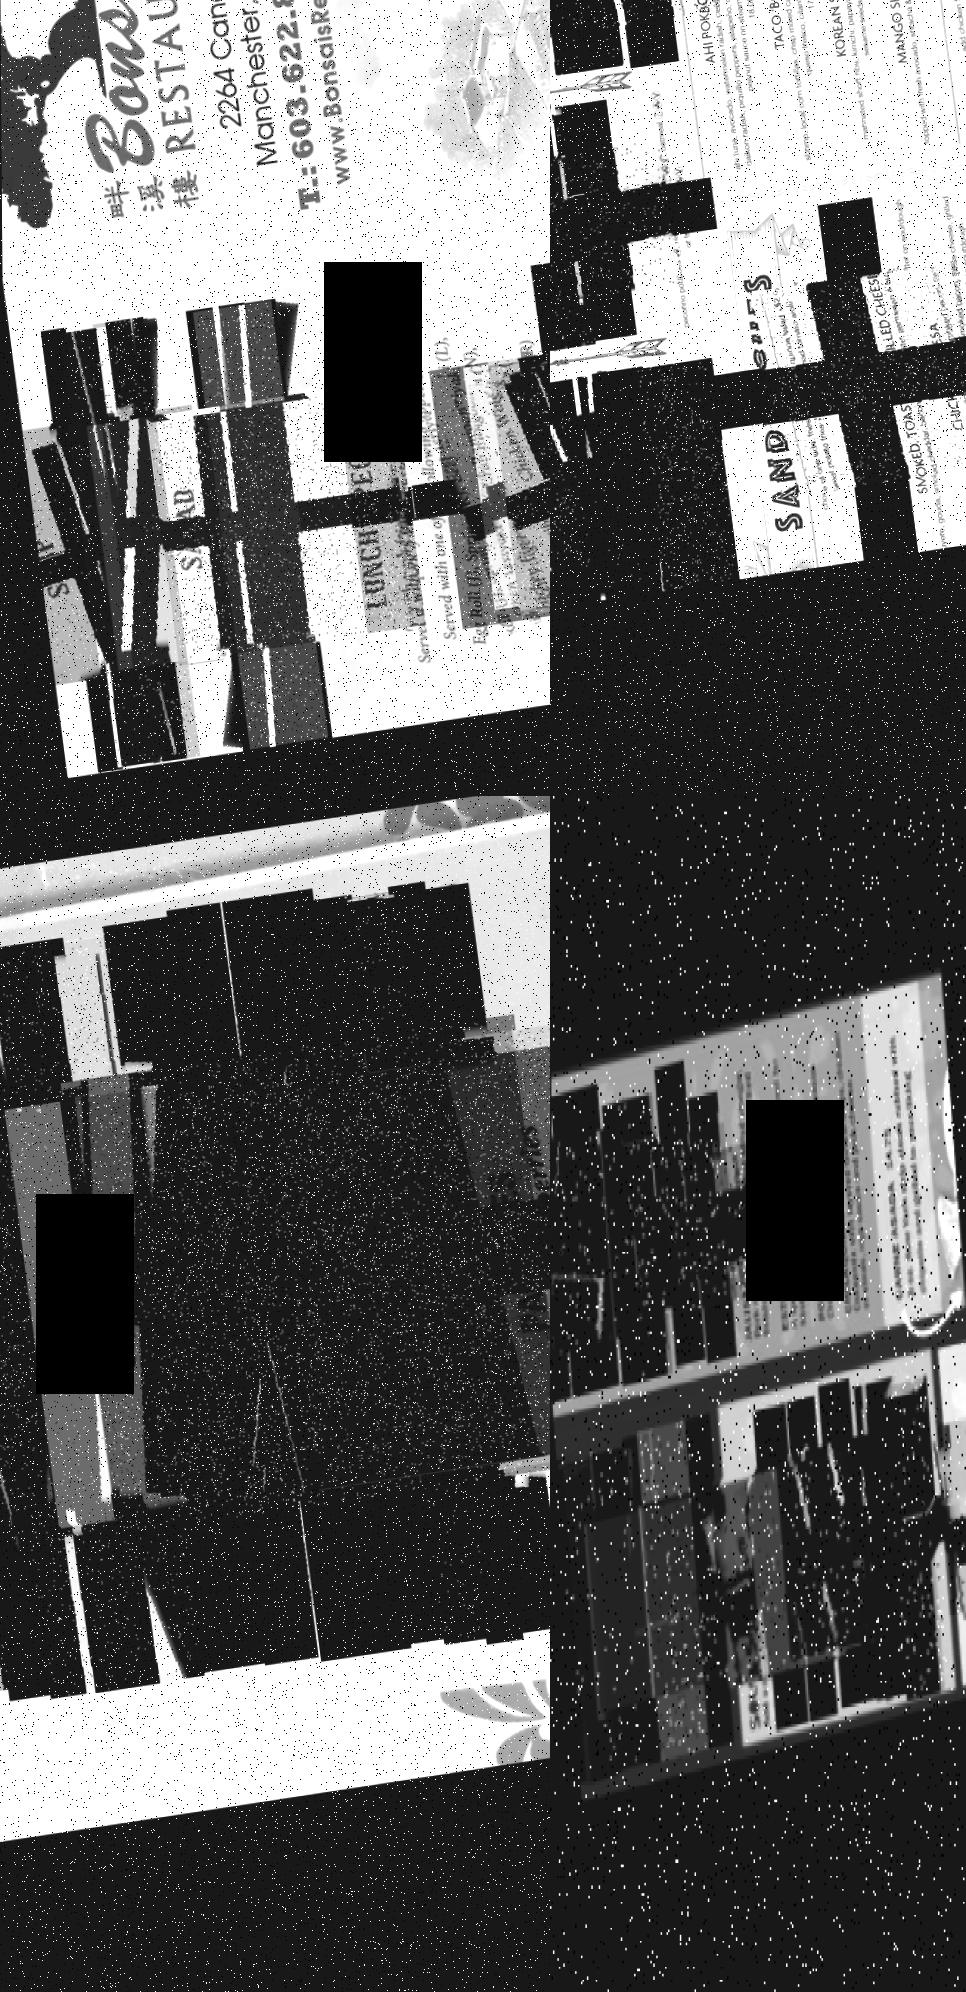Menu-Items: (58, 1015, 550, 1536), (4, 1043, 479, 1526), (131, 1024, 550, 1519), (0, 1055, 418, 1535), (0, 930, 201, 1699), (224, 1032, 550, 1498), (265, 1030, 550, 1489), (0, 1076, 245, 1561), (345, 889, 488, 1649), (89, 389, 365, 670), (149, 382, 424, 662), (191, 300, 326, 751), (20, 400, 225, 684), (749, 262, 966, 501), (91, 315, 198, 765), (58, 324, 164, 769), (427, 334, 550, 632), (872, 188, 963, 557), (713, 1446, 846, 1685), (780, 1426, 909, 1660), (642, 1464, 772, 1694), (750, 1444, 876, 1670), (583, 1482, 708, 1708), (637, 1416, 713, 1760), (565, 367, 670, 604), (461, 333, 550, 612), (634, 359, 738, 594), (551, 1117, 652, 1352), (622, 1110, 736, 1314), (845, 1376, 914, 1704), (602, 1088, 675, 1386), (550, 137, 678, 306), (882, 1369, 947, 1699), (670, 0, 779, 193), (587, 1443, 650, 1771), (485, 321, 550, 618), (660, 1133, 762, 1314), (869, 1021, 930, 1320), (561, 1446, 615, 1781), (918, 182, 966, 549), (742, 0, 839, 181), (819, 1020, 872, 1334), (802, 0, 896, 174), (550, 409, 642, 580), (859, 0, 951, 164), (758, 1043, 808, 1341), (560, 1501, 624, 1722), (722, 1056, 770, 1349), (791, 1051, 835, 1333), (550, 100, 594, 358), (551, 1142, 602, 1350), (934, 1405, 966, 1615), (550, 419, 584, 586), (550, 0, 622, 77), (560, 0, 719, 33)
